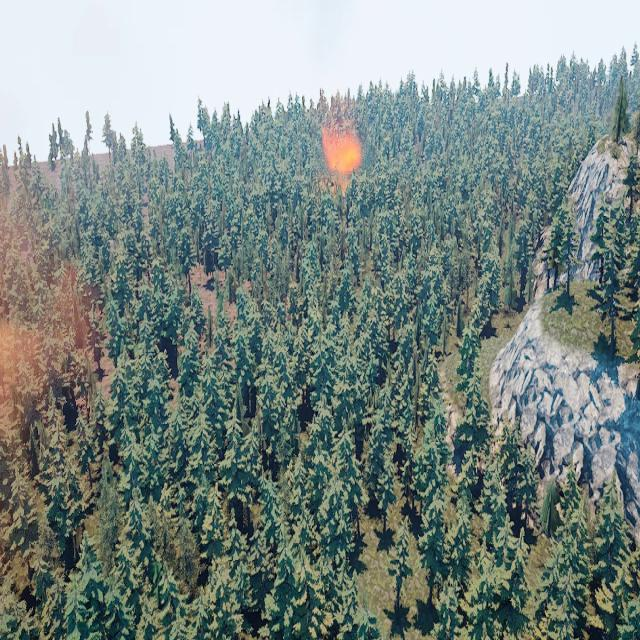smoke: (0, 162, 106, 455), (323, 89, 362, 178)
